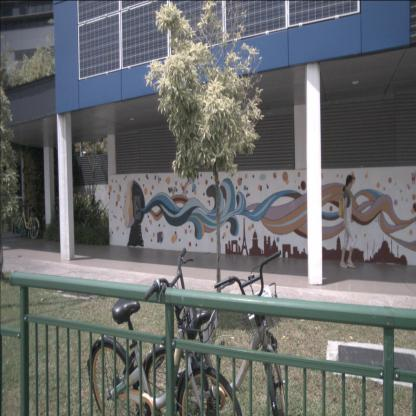human-pedestrian-adult: (339, 175, 357, 269)
vehicle-bicycle: (86, 248, 243, 416), (138, 249, 289, 416), (14, 197, 42, 240)
